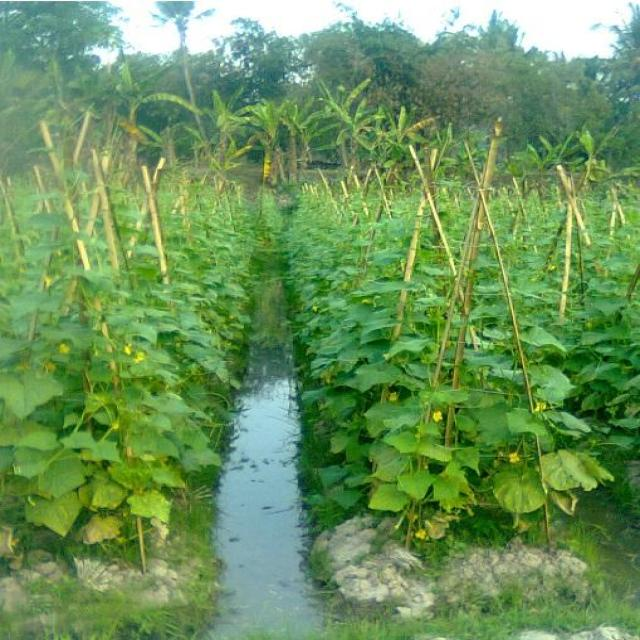row: (172, 240, 363, 626)
